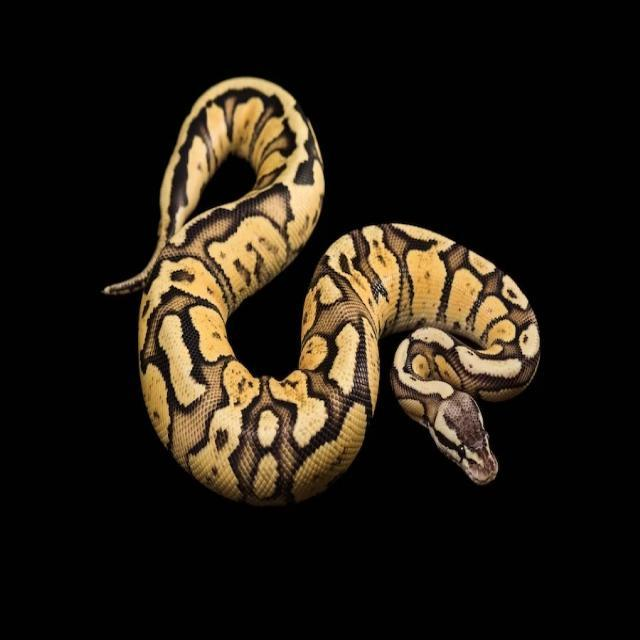Snake: (88, 58, 560, 520)
